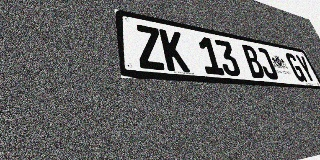1: (196, 36, 225, 75)
3: (214, 39, 242, 77)
B: (240, 44, 267, 79)
G: (284, 52, 308, 82)
J: (254, 47, 280, 80)
K: (159, 29, 190, 72)
Y: (294, 54, 317, 83)
Z: (134, 24, 167, 71)
